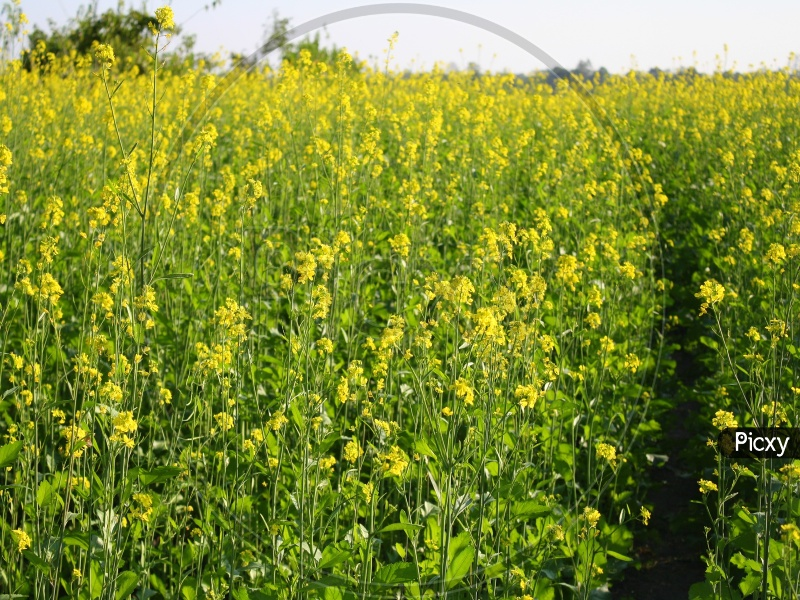mustard: (1, 60, 612, 583), (696, 104, 791, 408), (605, 46, 793, 197)
